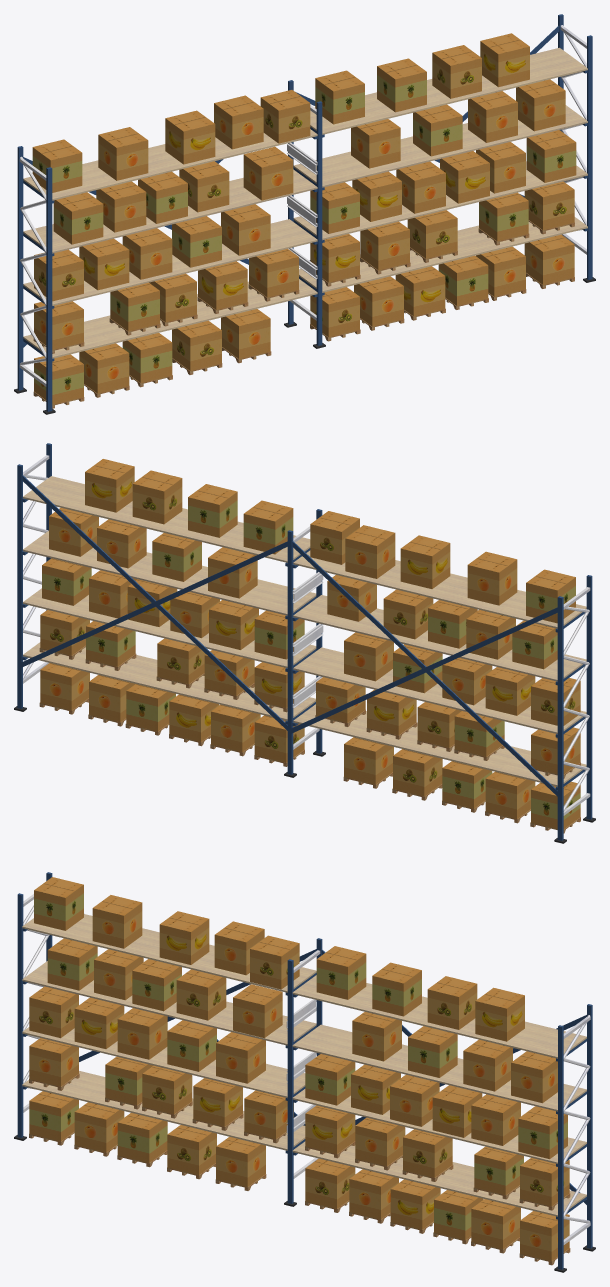
Rendered from BigShelves01Group2.glb.
3 renders of one model, top to bottom at view 1: azimuth 30°, elevation 25°; view 2: azimuth 150°, elevation 25°; view 3: azimuth 330°, elevation 25°, orthographic.
Parts seen in each view (by area): view 1: Cardboard_box010, Cardboard_box09, BigShelves01, BigShelvesWoodBox; view 2: Cardboard_box010, BigShelves01, Cardboard_box09, BigShelvesWoodBox; view 3: Cardboard_box010, Cardboard_box09, BigShelves01, BigShelvesWoodBox.
Part boxes in pixels (bbox=[...]): Cardboard_box010: bbox=[34, 45, 574, 393]; Cardboard_box09: bbox=[32, 33, 576, 404]; BigShelves01: bbox=[14, 14, 595, 414]; BigShelvesWoodBox: bbox=[33, 220, 574, 408]; Cardboard_box010: bbox=[40, 470, 580, 818]; BigShelves01: bbox=[14, 443, 595, 843]; Cardboard_box09: bbox=[42, 459, 580, 828]; BigShelvesWoodBox: bbox=[39, 645, 580, 833]; Cardboard_box010: bbox=[29, 895, 569, 1261]; Cardboard_box09: bbox=[29, 877, 567, 1240]; BigShelves01: bbox=[14, 872, 595, 1272]; BigShelvesWoodBox: bbox=[29, 1073, 570, 1265].
Size of the model in its own units: 17.75 by 7.59 by 1.82.
Materials: 9 (9 with a texture image).
